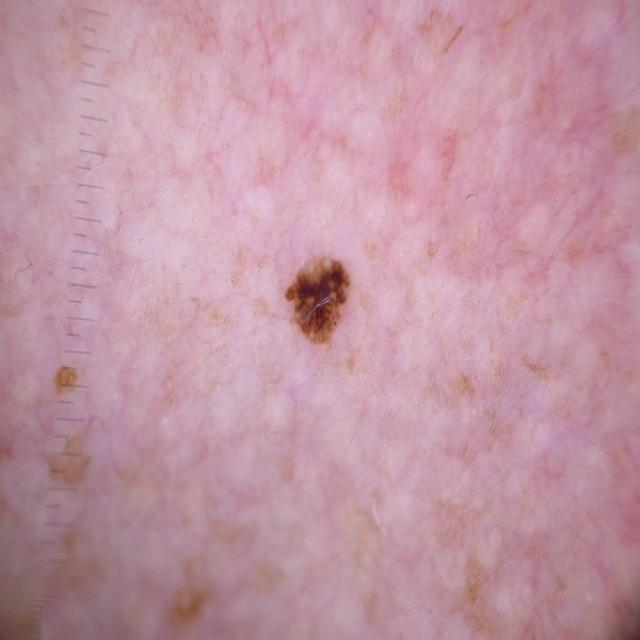Skin-Cancer Pigmented benign keratosis: (53, 18, 613, 640)
